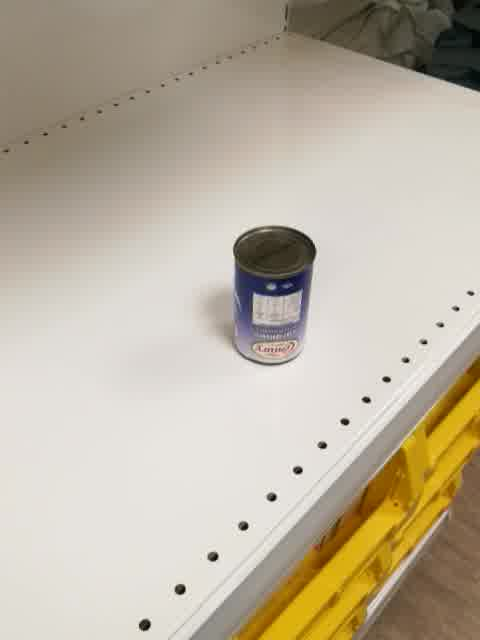sardine: (230, 225, 318, 366)
